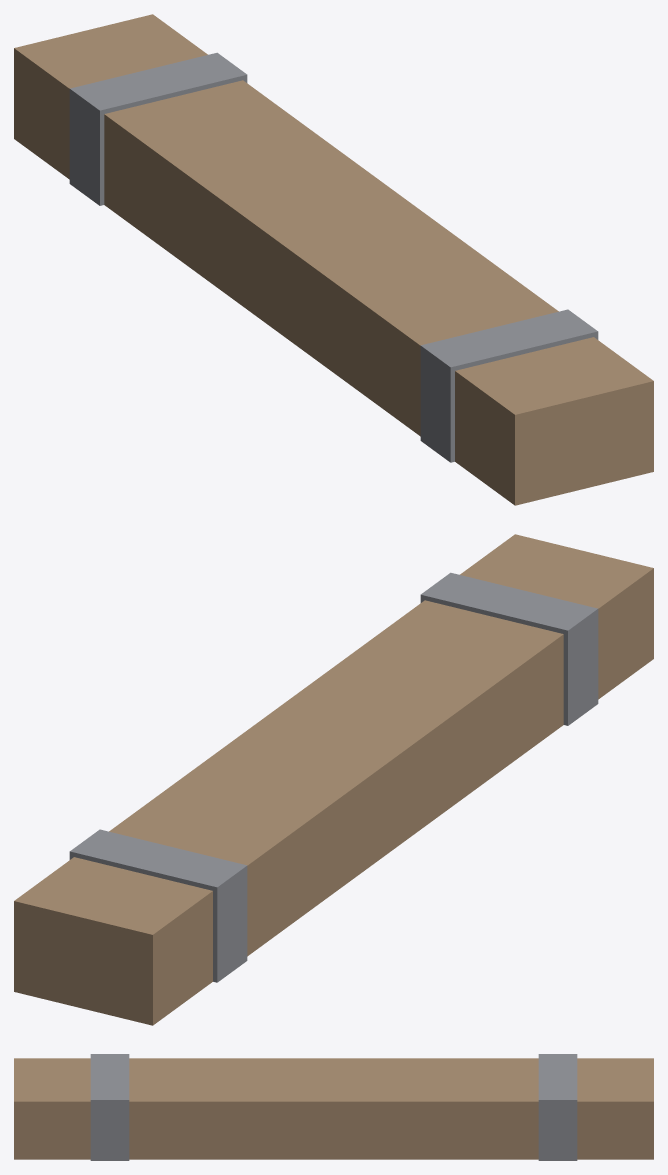
Rendered from timber-beam.glb.
3 views of the same model, one above another, from view 1: azimuth 30°, elevation 25°; view 2: azimuth 150°, elevation 25°; view 3: azimuth 270°, elevation 25° (orthographic). The views are drawn at different scales.
Parts seen in each view (by area): view 1: timber-beam; view 2: timber-beam; view 3: timber-beam.
Part boxes in pixels (x1,y1,x2,y2): timber-beam: (14,14,653,505); timber-beam: (14,534,653,1025); timber-beam: (14,1054,653,1160).
Bounding box in the file's own units: 0.17 × 0.105 × 1.
